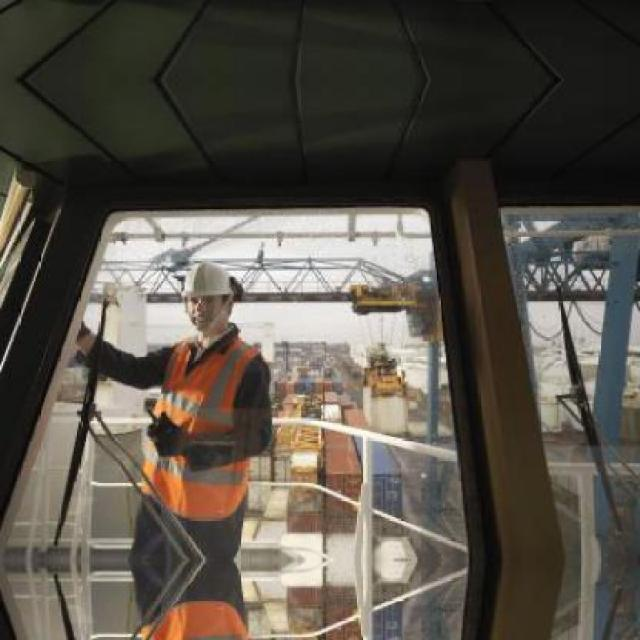helmet: (177, 260, 238, 305)
